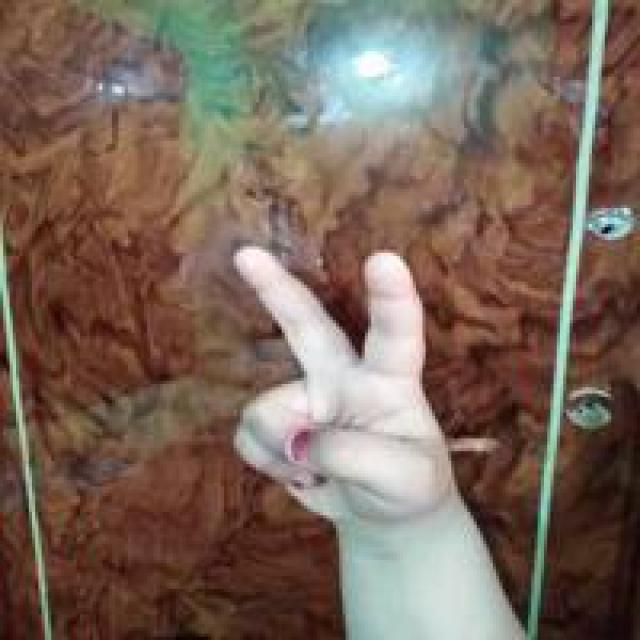V: (220, 240, 458, 534)
